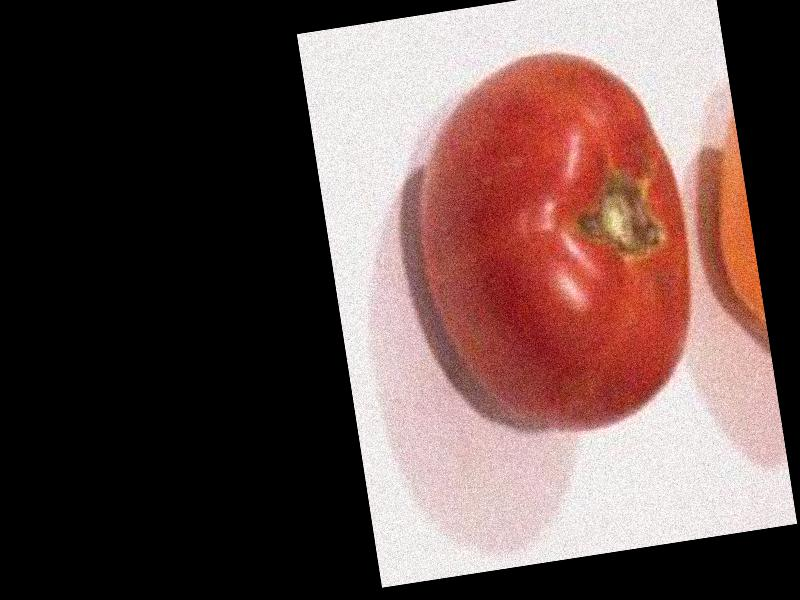Tomato: (398, 36, 711, 446)
